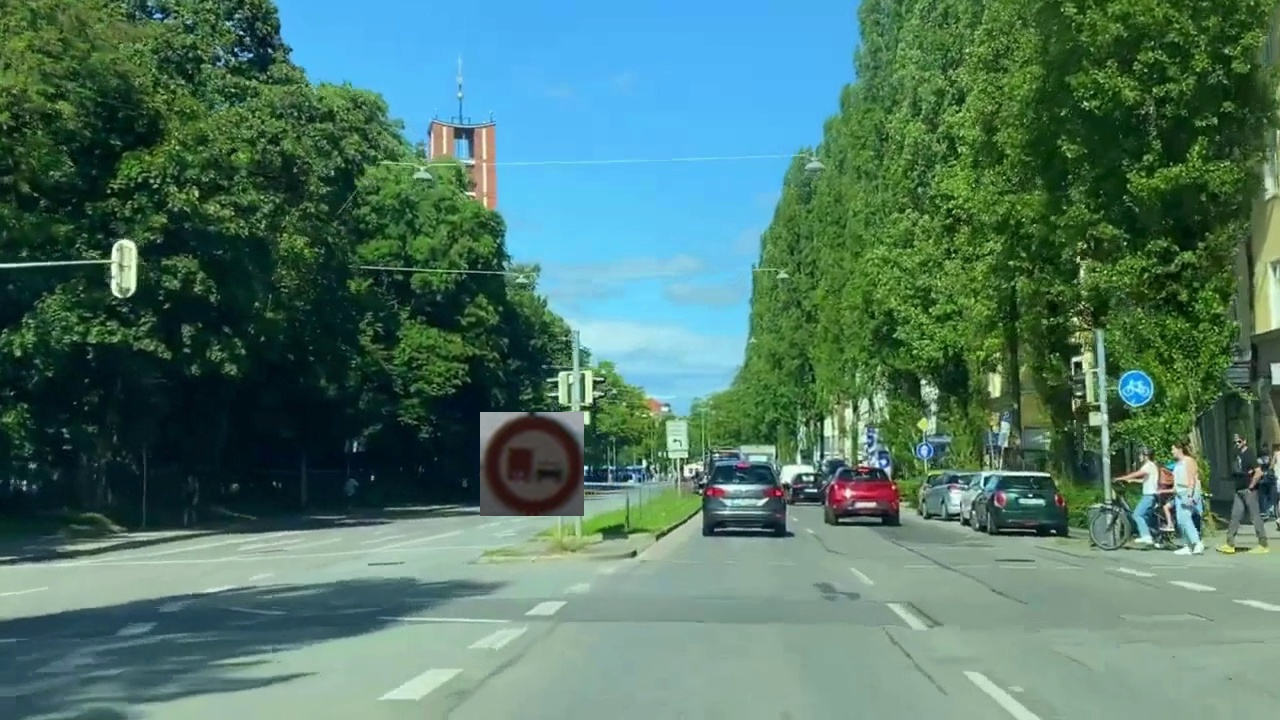No pass >3.5t: (480, 412, 584, 516)
